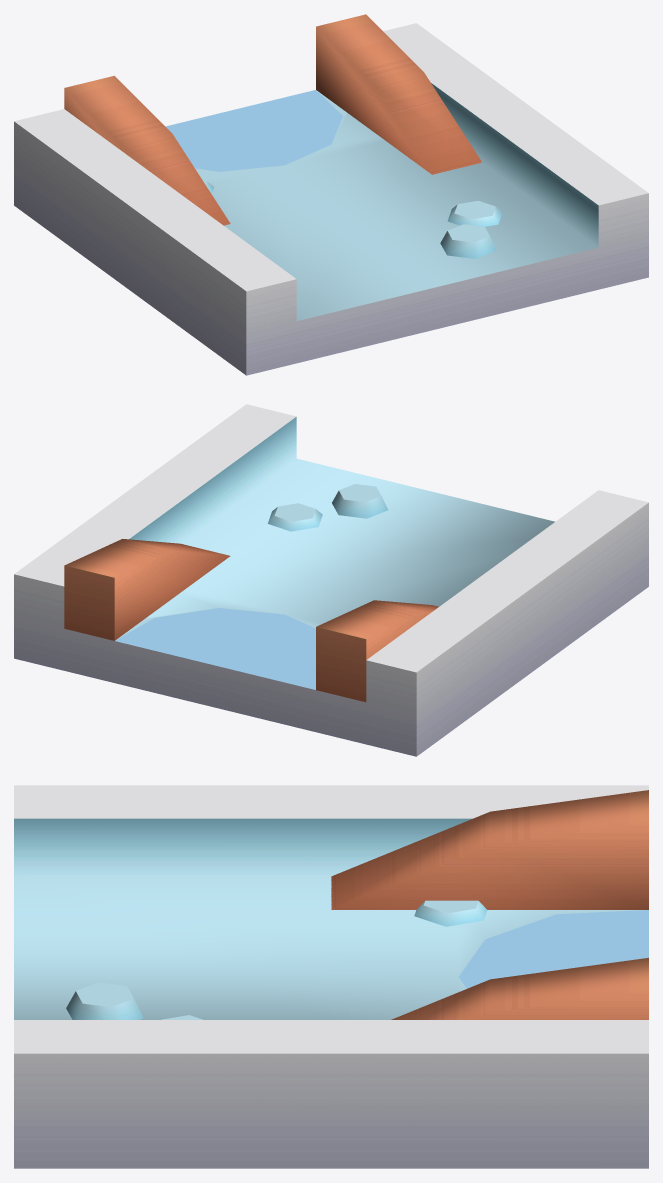
Rendered from snow-tile-river-transition.glb.
The picture shows the model from 3 angles, top to bottom: view 1: azimuth 30°, elevation 25°; view 2: azimuth 150°, elevation 25°; view 3: azimuth 270°, elevation 25°; orthographic projection. The views are drawn at different scales.
Visible parts, largest first — view 1: snow-tile-river-transition; view 2: snow-tile-river-transition; view 3: snow-tile-river-transition.
Boxes of the visible parts, bbox=[...] form: snow-tile-river-transition: bbox=[14, 14, 648, 375]; snow-tile-river-transition: bbox=[14, 404, 648, 756]; snow-tile-river-transition: bbox=[14, 785, 648, 1168].
Size of the model in its own units: 1 by 0.25 by 1.
Materials: 1 (1 with a texture image).
